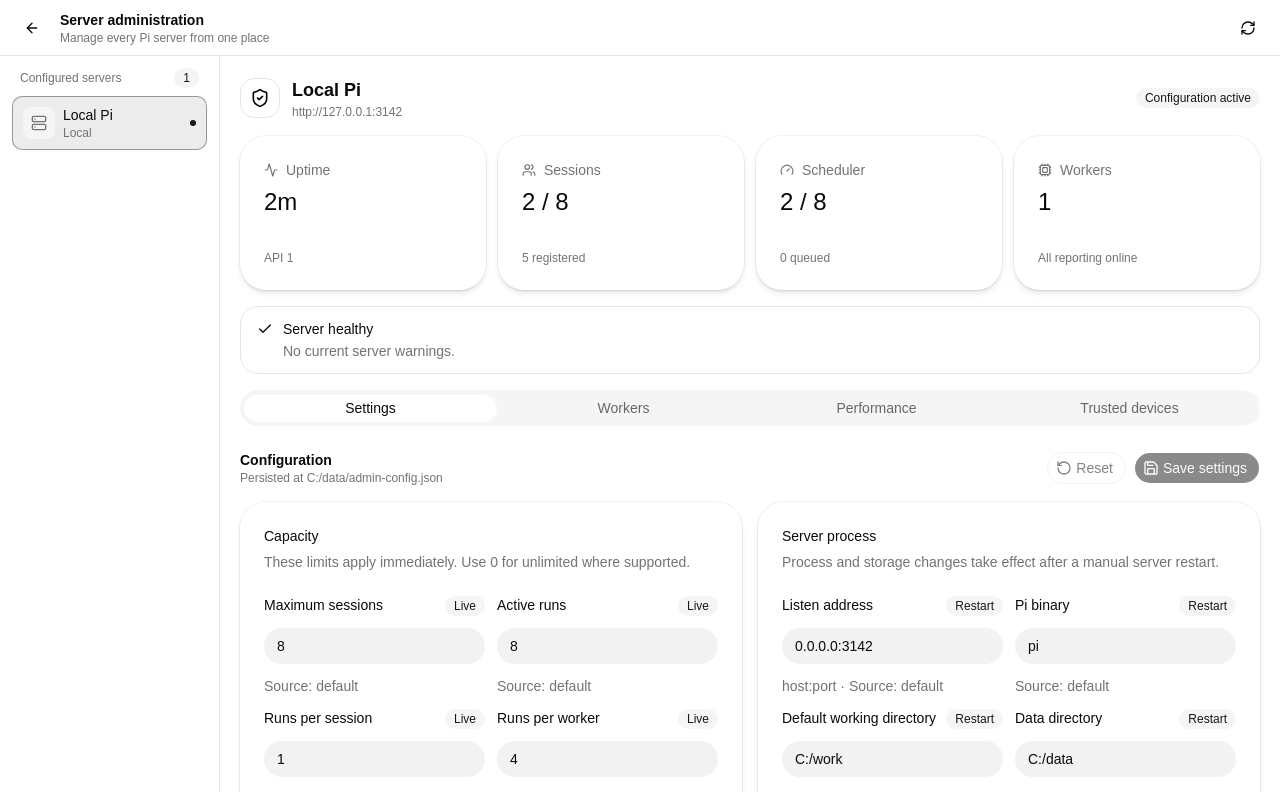
Test case: ServerAdminPage › saves edited settings through the admin settings API
The image size is (1280, 792).
Replace the text in the number field labelled "Maximum sessions" with "12" at (374, 646), box [264,628,485,664]
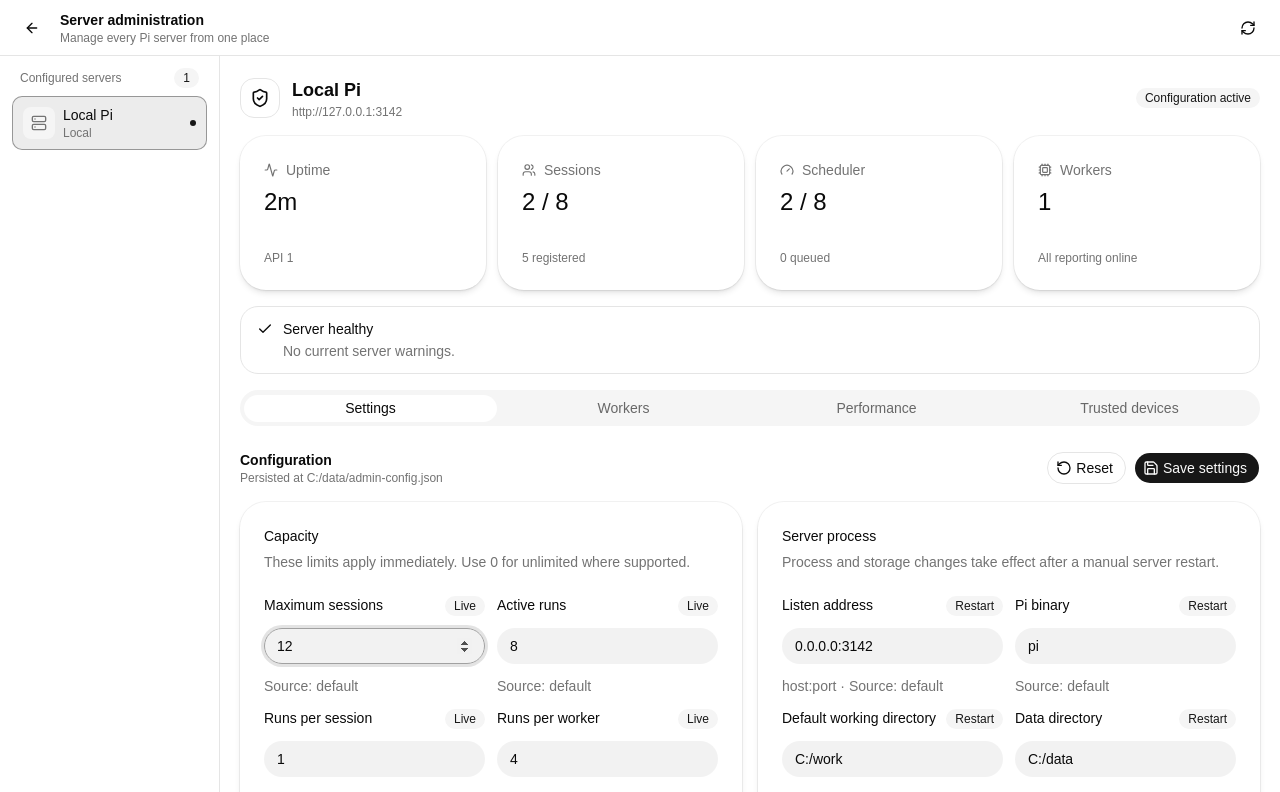
Click the button "Save settings" at (1197, 468), box [1134,452,1260,484]
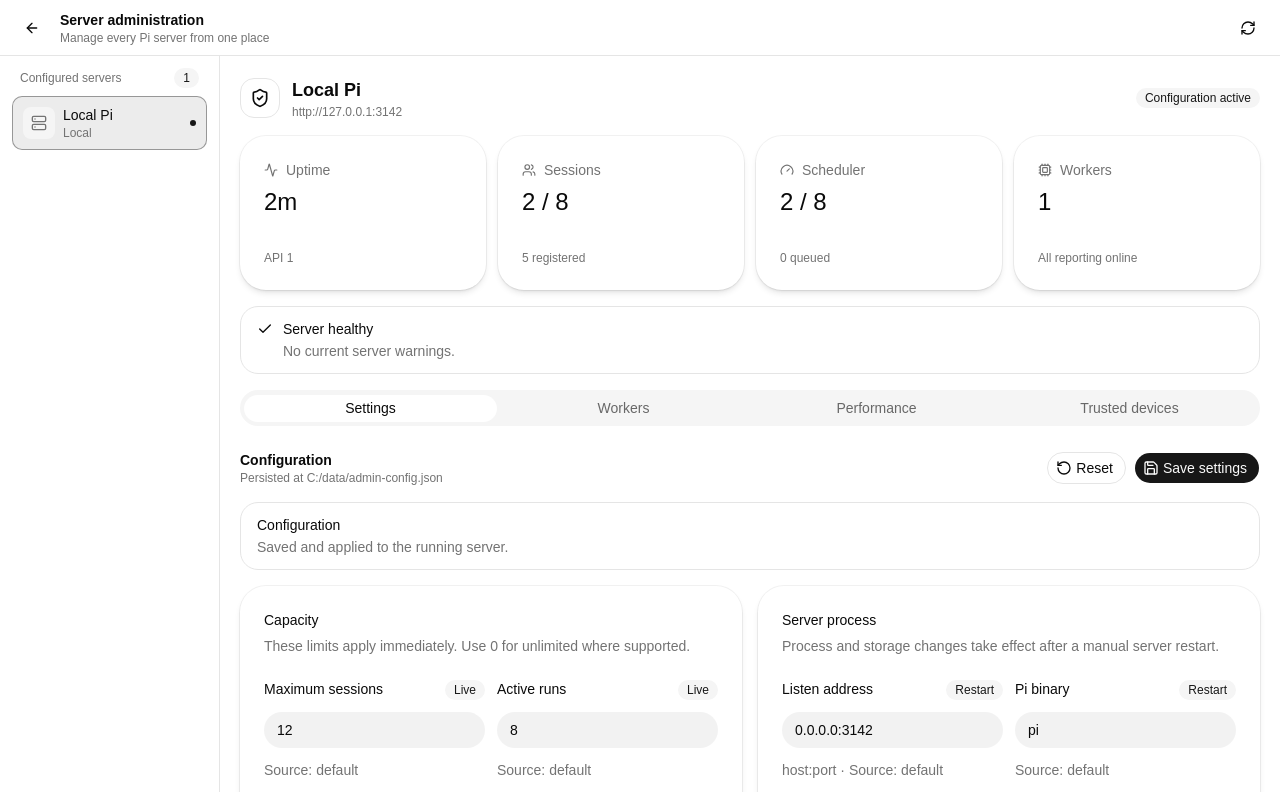
Check: the text "Saved and applied to the running server." is shown, box [257,539,508,555]
